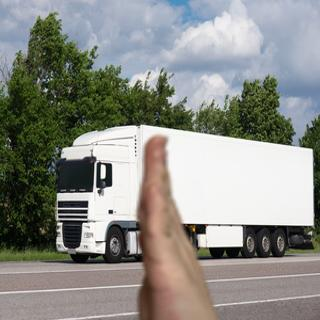RIGHT: (129, 133, 220, 320)
